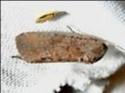army worm adult: (12, 32, 109, 67)
